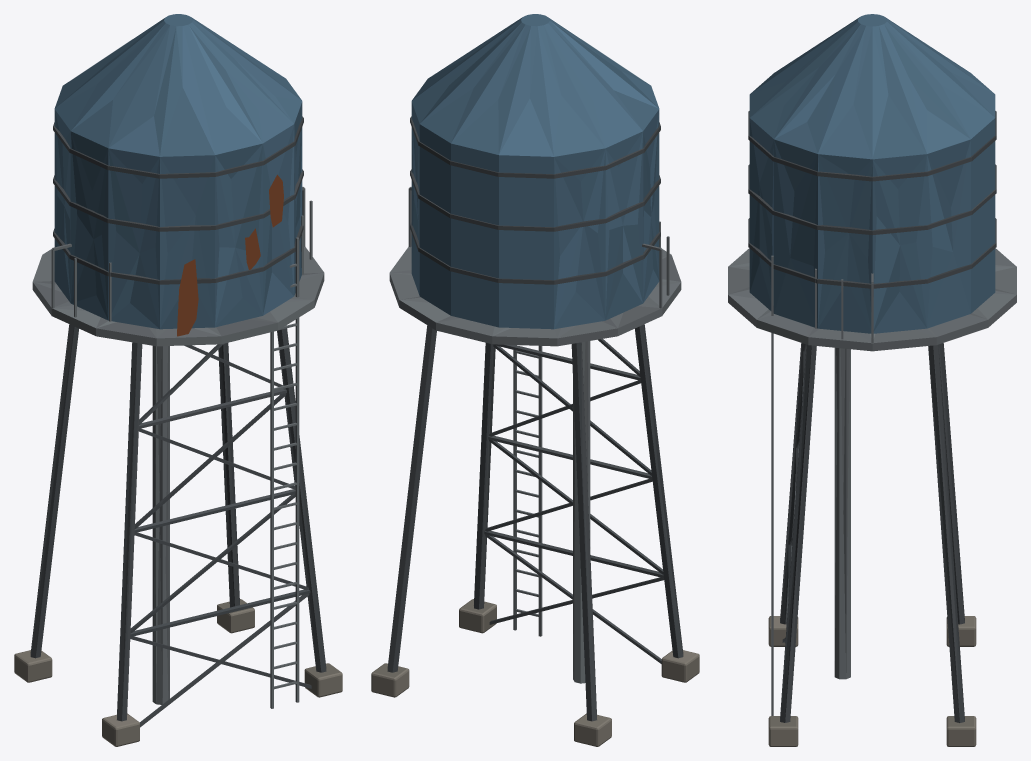
File: water_tower_stalnaya_na_oporah_idle.glb
3 renders of one model, left to right at view 1: azimuth 30°, elevation 25°; view 2: azimuth 150°, elevation 25°; view 3: azimuth 270°, elevation 25°, orthographic.
Parts seen in each view (by area): view 1: water_tower_stalnaya_na_oporah_idle; view 2: water_tower_stalnaya_na_oporah_idle; view 3: water_tower_stalnaya_na_oporah_idle.
Boxes of the visible parts, box(x1,y1,x2,y2) form: water_tower_stalnaya_na_oporah_idle: box(14, 14, 342, 746); water_tower_stalnaya_na_oporah_idle: box(371, 14, 699, 746); water_tower_stalnaya_na_oporah_idle: box(728, 14, 1016, 746).
Size of the model in its own units: 4 by 10.02 by 3.9.
1 material, 1 textured.
